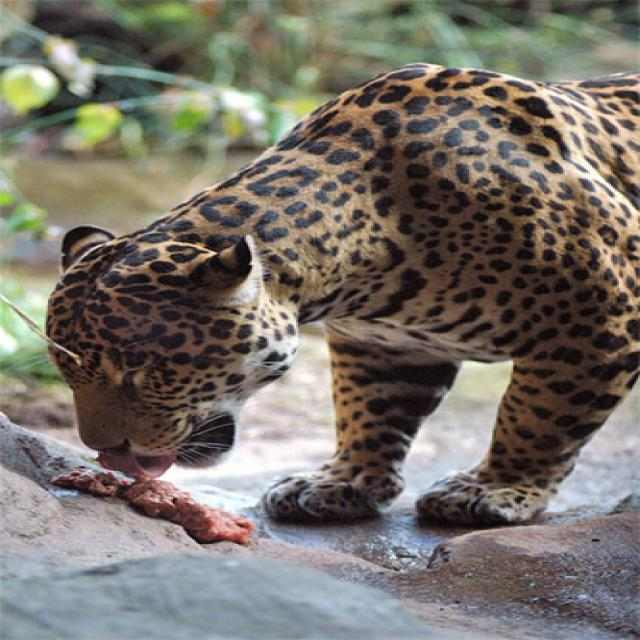Leopard: (38, 59, 634, 527)
